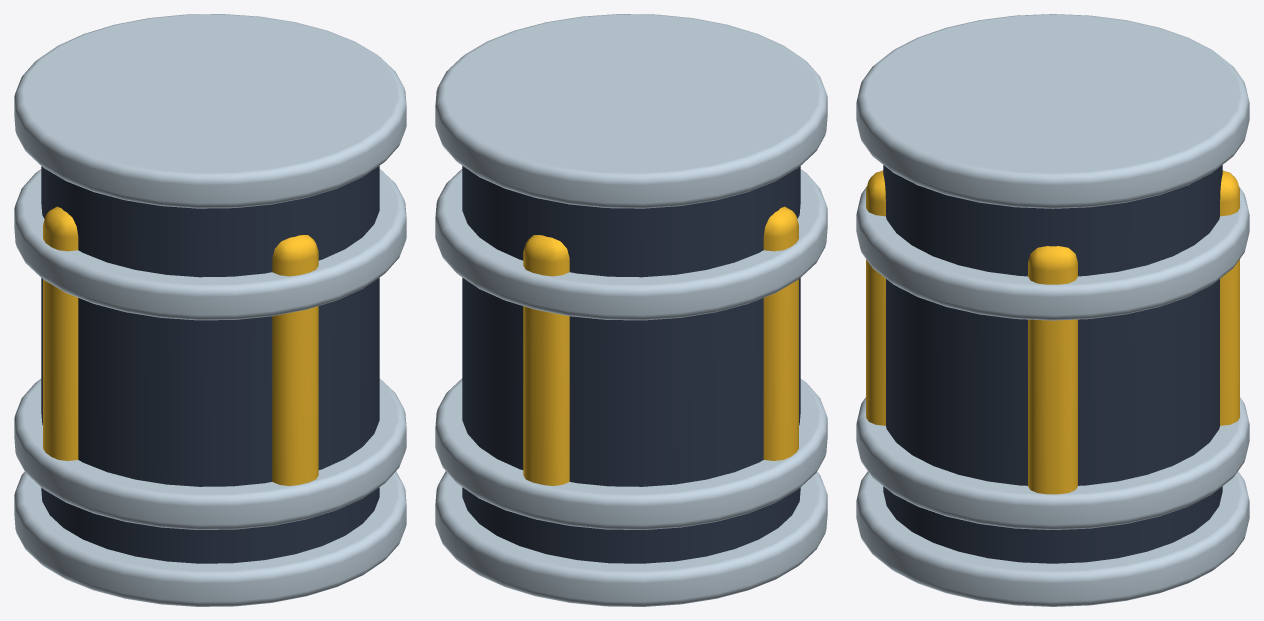
The model's file is free-speed-core.glb.
3 views of the same model, side by side, from view 1: azimuth 30°, elevation 25°; view 2: azimuth 150°, elevation 25°; view 3: azimuth 270°, elevation 25° (orthographic).
Parts seen in each view (by area): view 1: speed-core; view 2: speed-core; view 3: speed-core.
Boxes of the visible parts, x1,y1,x2,y2 form: speed-core: [14, 14, 406, 606]; speed-core: [435, 14, 827, 606]; speed-core: [856, 14, 1249, 606].
Bounding box in the file's own units: 0.51 × 0.62 × 0.51.
